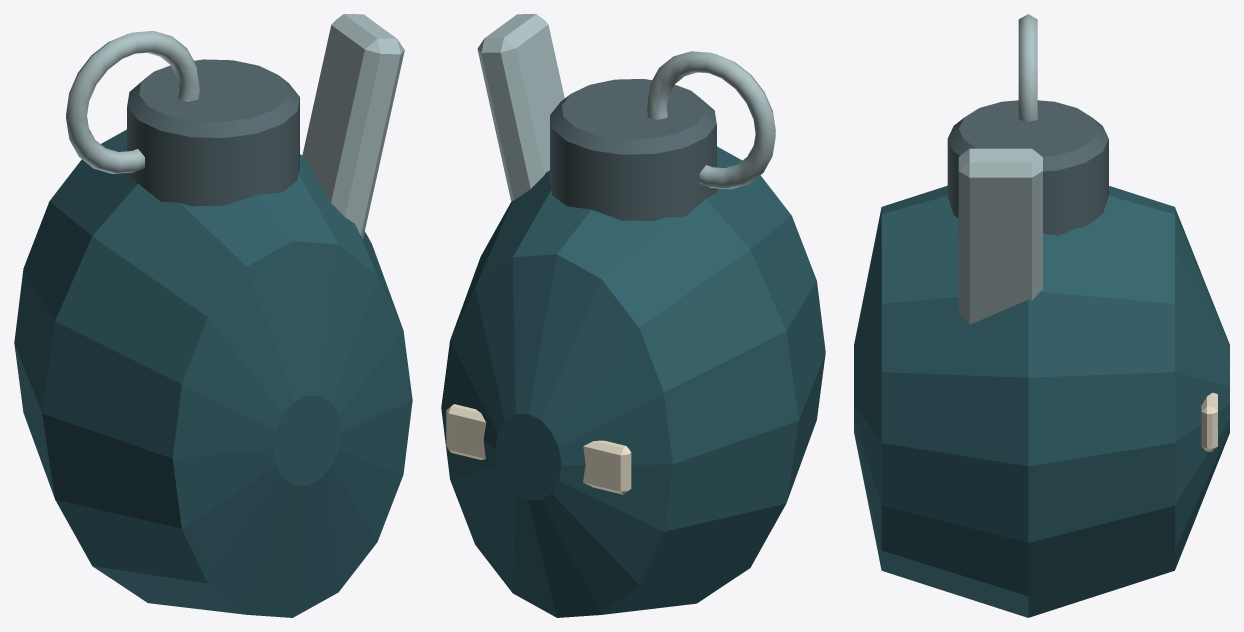
File: pulse-grenade.glb
The picture shows the model from 3 angles, left to right: view 1: azimuth 30°, elevation 25°; view 2: azimuth 150°, elevation 25°; view 3: azimuth 270°, elevation 25°; orthographic projection. The views are drawn at different scales.
Parts seen in each view (by area): view 1: Faceted olive body, Top cap, Safety lever, Pull ring; view 2: Faceted olive body, Top cap, Safety lever, Pull ring, Identification band; view 3: Faceted olive body, Safety lever, Top cap, Pull ring, Identification band.
Part boxes in pixels (x1,y1,x2,y2): Faceted olive body: (14, 129, 412, 617); Top cap: (127, 59, 299, 206); Safety lever: (302, 14, 404, 239); Pull ring: (66, 31, 199, 173); Faceted olive body: (441, 146, 825, 617); Top cap: (550, 79, 716, 220); Safety lever: (477, 14, 564, 201); Pull ring: (646, 51, 775, 189); Identification band: (446, 404, 631, 494); Faceted olive body: (854, 185, 1229, 617); Safety lever: (958, 148, 1042, 324); Top cap: (947, 100, 1108, 235); Pull ring: (1018, 14, 1037, 121); Identification band: (1201, 392, 1217, 451).
Bounding box in the file's own units: 0.2 × 0.33 × 0.205.
